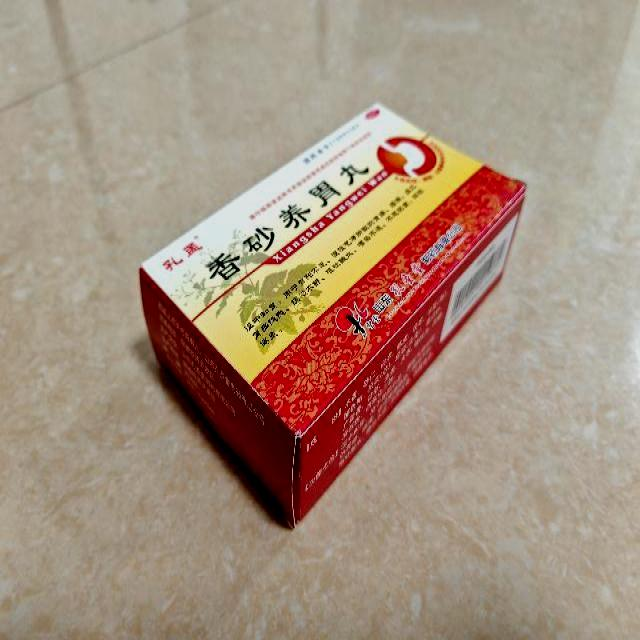box: (138, 100, 528, 524)
